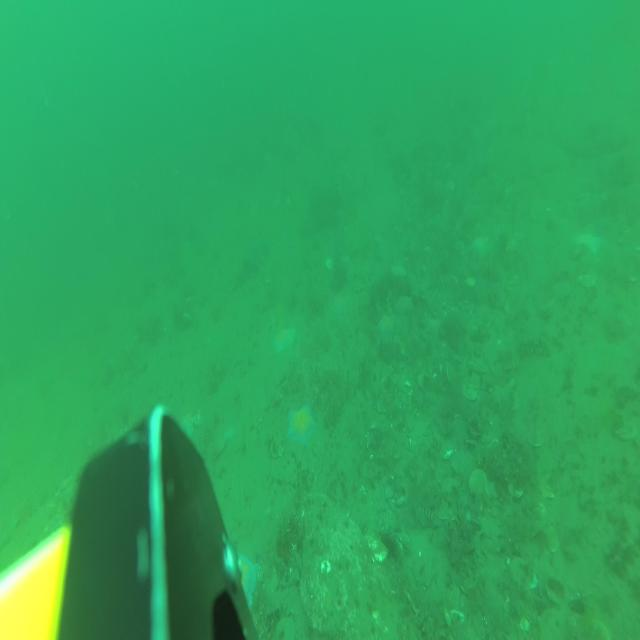echinus: (377, 522, 400, 566), (578, 272, 596, 290)
holothurian: (516, 337, 554, 363)
scallop: (614, 412, 640, 440), (468, 466, 488, 499), (508, 556, 529, 587), (412, 559, 433, 588), (433, 494, 456, 520), (538, 473, 556, 501), (525, 425, 547, 447), (445, 361, 459, 387), (464, 370, 481, 390), (484, 476, 498, 500), (362, 459, 378, 480), (270, 437, 284, 460), (508, 480, 524, 500), (462, 386, 478, 403)
starfish: (232, 546, 262, 613), (283, 400, 318, 452), (268, 324, 298, 360), (466, 228, 492, 263), (573, 226, 602, 256), (374, 311, 398, 339)
